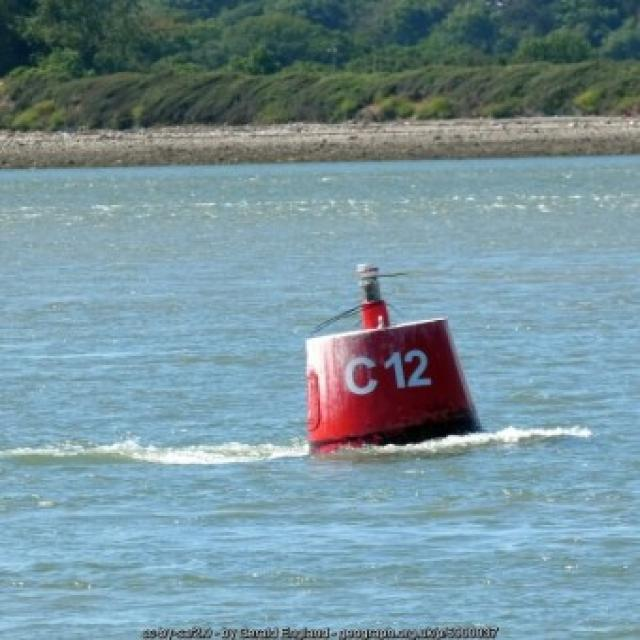2.1 lateral mark -P-: (282, 240, 487, 478)
